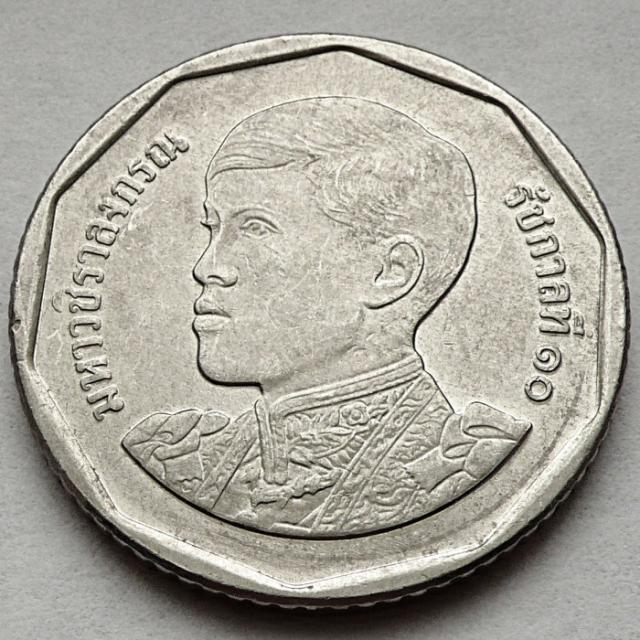5 Bath: (9, 32, 638, 624)
